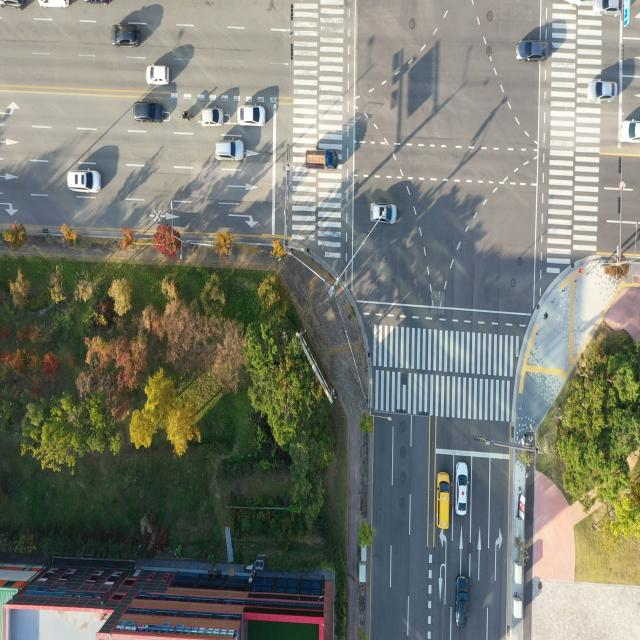car: (437, 472, 453, 532), (514, 39, 550, 64), (67, 169, 102, 193), (132, 100, 164, 126), (455, 576, 470, 631), (110, 23, 142, 48), (588, 77, 618, 103), (456, 463, 470, 518), (216, 139, 245, 162), (368, 202, 394, 226), (145, 61, 170, 85), (201, 106, 228, 128), (619, 114, 640, 142), (591, 0, 623, 17), (239, 106, 264, 126), (35, 0, 70, 12), (0, 0, 26, 10)
small_truck: (305, 147, 340, 173)
